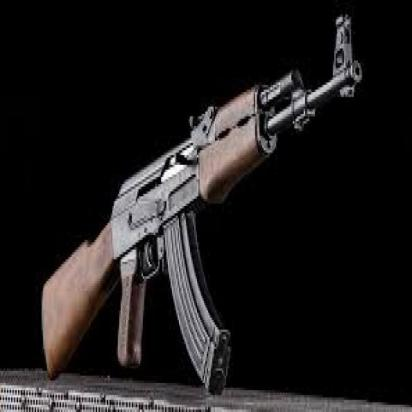Gun: (43, 10, 363, 392)
